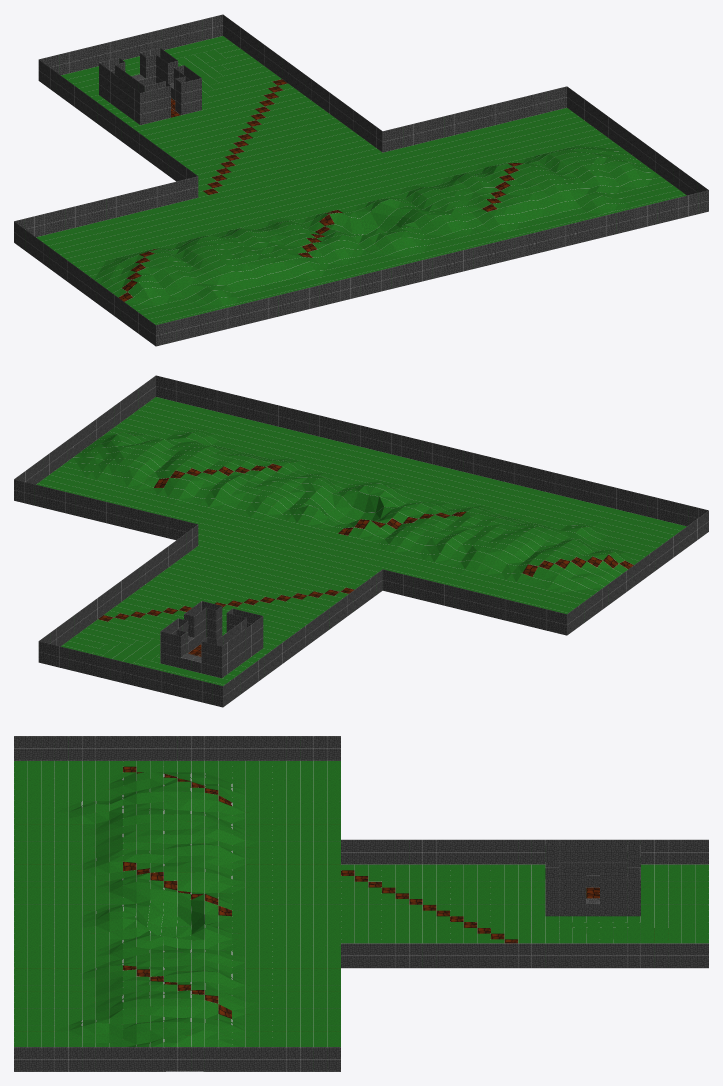
File: map1.obj
The picture shows the model from 3 angles, top to bottom: view 1: azimuth 30°, elevation 25°; view 2: azimuth 150°, elevation 25°; view 3: azimuth 270°, elevation 25°; orthographic projection. The views are drawn at different scales.
Visible parts, largest first — view 1: Cube; view 2: Cube; view 3: Cube.
Part boxes in pixels (x1,y1,x2,y2): Cube: (14, 14, 708, 346); Cube: (14, 375, 708, 707); Cube: (14, 736, 708, 1071).
Bounding box in the file's own units: 108 × 8.8 × 102.
1 material, 1 textured.
